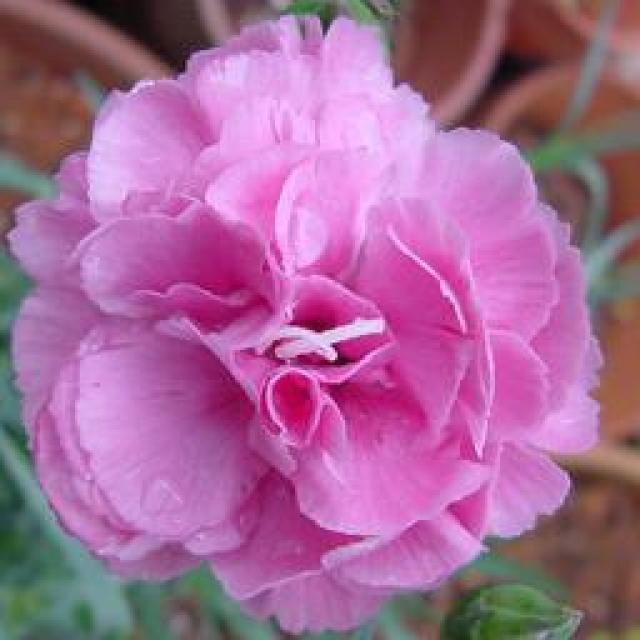carnation: (4, 25, 603, 617)
